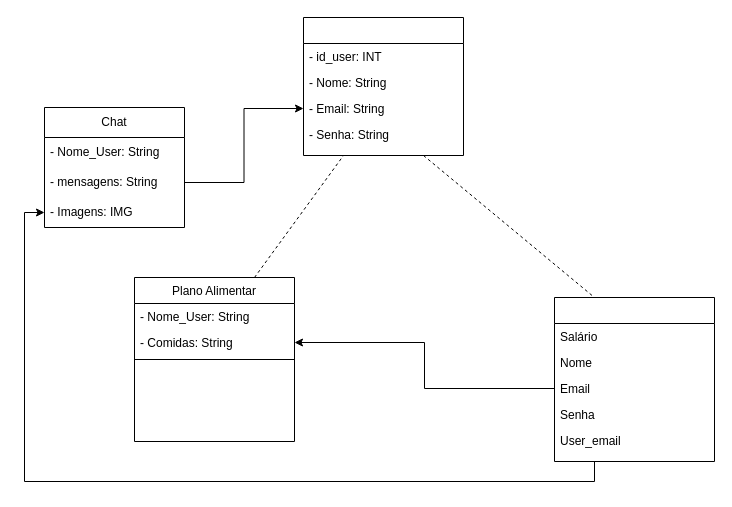
The diagram is 732 pixels wide and 507 high, and some of its shapes have lost their labels. The box of each missing label's shape, as (x1, y1, x2, y2) in pixels:
Nutricionista: (554, 296, 714, 462)
Usuário: (302, 16, 464, 156)
